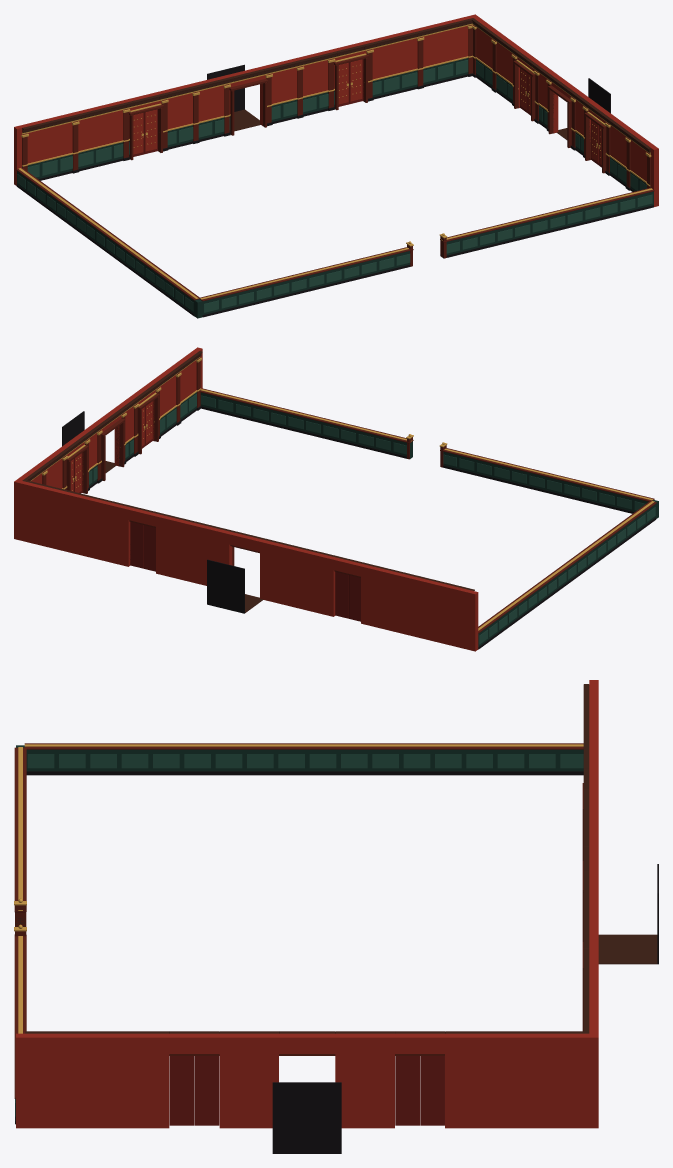
Rendered from shell.glb.
3 renders of one model, top to bottom at view 1: azimuth 30°, elevation 25°; view 2: azimuth 150°, elevation 25°; view 3: azimuth 270°, elevation 25°, orthographic. The views are drawn at different scales.
Parts seen in each view (by area): view 1: shell; view 2: shell; view 3: shell.
Part boxes in pixels (x1,y1,x2,y2): shell: (14,14,658,318); shell: (14,347,658,651); shell: (14,680,658,1153).
Size of the model in its own units: 28.96 by 3.2 by 20.58.
